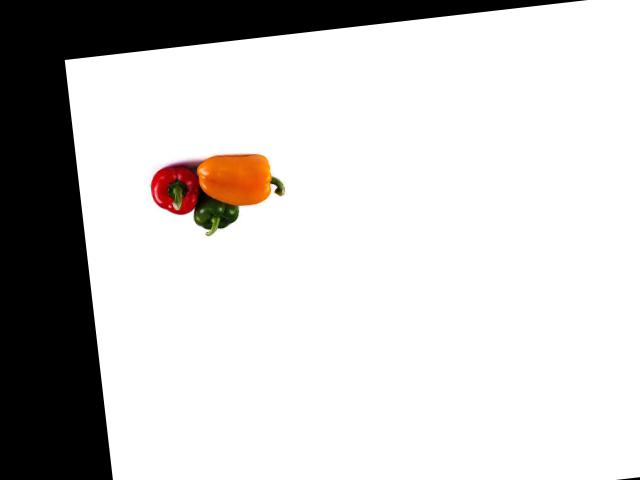bell_pepper: (186, 185, 245, 238)
